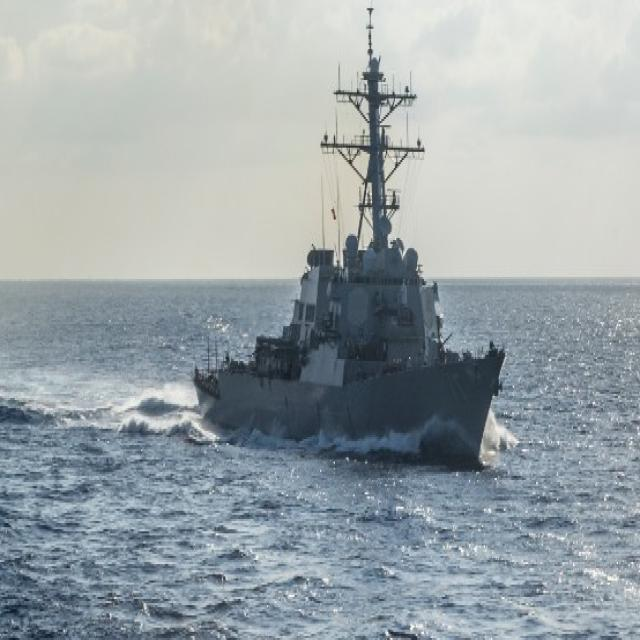navalvessels: (197, 11, 510, 471)
